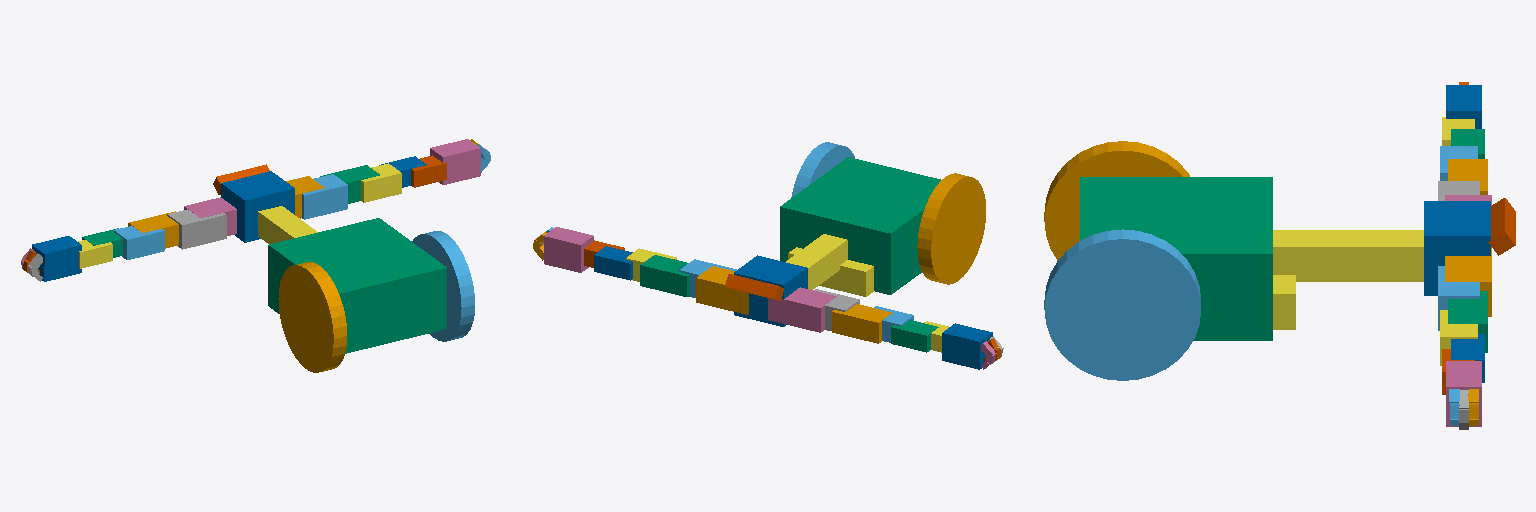
--- Facts derived from the render (not from the file) ---
3 views of the same robot in one strip: view 1: azimuth 30°, elevation 25°; view 2: azimuth 150°, elevation 25°; view 3: azimuth 270°, elevation 25° (orthographic).
Robot: Krang — 26 links, 25 joints (24 revolute, 1 fixed); root link Base; default pose: all joints at 0.
Visible links, largest first — view 1: Base, LWheel, RWheel, Bracket, lGripper, rGripper, L2, R2, Spine, L4, R4, L1 (+6 smaller); view 2: Base, LWheel, Spine, Bracket, L1, rGripper, lGripper, R1, L3, R3, RWheel, L5 (+5 smaller); view 3: Base, RWheel, Spine, LWheel, Bracket, R1, lGripper, rGripper, R3, Kinect, L3, R2 (+5 smaller).
Boxes of the visible links, left/top/right/bottom form: Base: left=268, top=218, right=446, bottom=353; LWheel: left=278, top=262, right=346, bottom=372; RWheel: left=412, top=231, right=474, bottom=341; Bracket: left=221, top=171, right=294, bottom=242; lGripper: left=32, top=236, right=81, bottom=281; rGripper: left=430, top=139, right=480, bottom=184; L2: left=167, top=209, right=226, bottom=249; R2: left=302, top=174, right=347, bottom=219; Spine: left=258, top=206, right=317, bottom=243; L4: left=114, top=226, right=164, bottom=259; R4: left=361, top=163, right=401, bottom=202; L1: left=184, top=197, right=236, bottom=235; Base: left=780, top=157, right=940, bottom=294; LWheel: left=917, top=173, right=985, bottom=284; Spine: left=786, top=234, right=873, bottom=296; Bracket: left=734, top=255, right=807, bottom=326; L1: left=768, top=287, right=836, bottom=332; rGripper: left=544, top=227, right=593, bottom=272; lGripper: left=942, top=323, right=992, bottom=369; R1: left=696, top=266, right=748, bottom=314; L3: left=832, top=304, right=891, bottom=343; R3: left=640, top=255, right=689, bottom=296; RWheel: left=791, top=142, right=854, bottom=197; L5: left=891, top=320, right=938, bottom=352; Base: left=1080, top=177, right=1272, bottom=340; RWheel: left=1044, top=229, right=1200, bottom=380; Spine: left=1273, top=230, right=1423, bottom=329; LWheel: left=1044, top=141, right=1189, bottom=260; Bracket: left=1424, top=201, right=1490, bottom=295; R1: left=1445, top=247, right=1491, bottom=316; lGripper: left=1446, top=85, right=1481, bottom=128; rGripper: left=1446, top=361, right=1481, bottom=426; R3: left=1448, top=291, right=1487, bottom=352; Kinect: left=1488, top=198, right=1515, bottom=255; L3: left=1448, top=159, right=1487, bottom=194; R2: left=1438, top=266, right=1479, bottom=330.
Bounding box of the posed robot: 2.58 × 1.61 × 0.536 m (x, y, z).
Geometry: primitives only (box / cylinder / sphere), no mesh files.

robot.urdf — Krang:
<?xml version="1.0" ?>
<!-- @file Krang.urdf -->
<!-- @author Can Erdogan -->
<!-- @date May 10, 2013 -->
<!-- @brief This file contains the .urdf definition for Krang. -->
<!-- NOTE: The center of mass locations are taken from the MassTable by summing up the -->
<!-- individual part values for the sections (which correspond to nodes here). -->
<!-- TODO: Set the center of mass locations -->
<!-- TODO: Set the correct masses. Note that the dae models have the brackets divided in two and -->
<!-- connected to the middle motor for which we do not have measurements. -->
<!-- NOTE: The bounding box values are taken by finding the min and max values of the dae files. -->

<robot name="Krang">

	<!-- Links -->

	<link name = "LWheel"> 
    <inertial>
      <mass value="4.66"/>
      <inertia ixx="0.102019" ixy="2.45462e-05" ixz="0.00713022" iyy="0.0832724" iyz="-0.00131733" izz="0.086493"/>
      <origin xyz="0 0 0"/>
    </inertial>
		<visual> <origin xyz="-0.002 0 0" rpy="0 1.5708 0"/> <geometry> <cylinder length="0.077" radius="0.268"/> </geometry> </visual> 
		<collision> <origin xyz="-0.002 0 0" rpy="0 1.5708 0"/> <geometry> <cylinder length="0.077" radius="0.268"/> </geometry> </collision> 
	</link>

	<link name = "RWheel"> 
    <inertial>
      <mass value="4.66"/>
      <inertia ixx="0.102019" ixy="2.45462e-05" ixz="0.00713022" iyy="0.0832724" iyz="-0.00131733" izz="0.086493"/>
      <origin xyz="0 0 0"/>
    </inertial>
		<visual> <origin xyz="-0.002 0 0" rpy="0 1.5708 0"/> <geometry> <cylinder length="0.077" radius="0.268"/> </geometry> </visual> 
		<collision> <origin xyz="-0.002 0 0" rpy="0 1.5708 0"/> <geometry> <cylinder length="0.077" radius="0.268"/> </geometry> </collision> 
	</link>

	<link name = "Base"> 
    <inertial>
      <mass value="81.856"/>
      <inertia ixx="0.102019" ixy="2.45462e-05" ixz="0.00713022" iyy="0.0832724" iyz="-0.00131733" izz="0.086493"/>
      <origin xyz="-0.00336451 0.107572 -0.00636184"/>
    </inertial>
		<visual> <origin xyz="0.0 0.183 0.0063"/> <geometry> <box size="0.620 0.66 0.329"/> </geometry> </visual> 
		<collision> <origin xyz="0.0 0.183 0.0063"/> <geometry> <box size="0.620 0.66 0.329"/> </geometry> </collision> 
	</link>

	<link name = "Spine"> 
    <inertial>
      <mass value="10.302"/>
      <inertia ixx="0.102019" ixy="2.45462e-05" ixz="0.00713022" iyy="0.0832724" iyz="-0.00131733" izz="0.086493"/>
			<!-- an offset of -0.02937 is added due to bad dae file and to align with base com -->
      <origin xyz="-0.02937 0.285314 0.0974926"/>
    </inertial>
		<visual> <origin xyz="-0.028 0.230 0.108"/> <geometry> <box size="0.134 0.60 0.133"/> </geometry> </visual> 
		<visual> <origin xyz="-0.026 0.012 0"/> <geometry> <box size="0.435 0.16 0.135"/> </geometry> </visual> 
		<collision> <origin xyz="-0.028 0.230 0.108"/> <geometry> <box size="0.134 0.60 0.133"/> </geometry> </collision> 
		<collision> <origin xyz="-0.026 0.012 0"/> <geometry> <box size="0.435 0.16 0.135"/> </geometry> </collision> 
	</link>

	<link name = "Bracket"> 
    <inertial>
      <mass value="10.17"/>
      <inertia ixx="0.102019" ixy="2.45462e-05" ixz="0.00713022" iyy="0.0832724" iyz="-0.00131733" izz="0.086493"/>
			<!-- offseted with 0.0827 because the origin of the bracket is at the bottom -->
      <origin xyz="0 0.080606 -0.00314267"/>
    </inertial>
		<visual> <origin xyz="0.0012875 -0.022 -0.0280530"/> <geometry> <box size="0.2815 0.23 0.22611"/> </geometry> </visual> 
		<collision> <origin xyz="0.0012875 -0.022 -0.0280530"/> <geometry> <box size="0.2815 0.23 0.22611"/> </geometry> </collision> 
	</link>

	<link name = "Kinect"> 
    <inertial>
      <mass value="0.705"/>
      <inertia ixx="0.102019" ixy="2.45462e-05" ixz="0.00713022" iyy="0.0832724" iyz="-0.00131733" izz="0.086493"/>
      <origin xyz="0.0 -0.04 -0.028"/>
    </inertial>
		<visual> <origin xyz="0.0 -0.0251 -0.0185"/> <geometry> <box size="0.28 0.07 0.063"/> </geometry> </visual> 
		<collision> <origin xyz="0.0 -0.0251 -0.0185"/> <geometry> <box size="0.28 0.07 0.063"/> </geometry> </collision> 
	</link>

	<link name = "L1"> 
    <inertial>
      <mass value="3.836"/>
      <inertia ixx="0.102019" ixy="2.45462e-05" ixz="0.00713022" iyy="0.0832724" iyz="-0.00131733" izz="0.086493"/>
      <origin xyz="0.0063626 -0.00725706 0"/>
    </inertial>
		<visual> <origin xyz="0.015 -0.080866 0.0"/> <geometry> <box size="0.16 0.29367 0.13188"/> </geometry> </visual> 
		<collision> <origin xyz="0.015 -0.080866 0.0"/> <geometry> <box size="0.16 0.29367 0.13188"/> </geometry> </collision> 
	</link>

	<link name = "L2"> 
    <inertial>
      <mass value="2.385"/>
      <inertia ixx="0.102019" ixy="2.45462e-05" ixz="0.00713022" iyy="0.0832724" iyz="-0.00131733" izz="0.086493"/>
      <origin xyz="0.0101136 -0.15332 0"/>
    </inertial>
		<visual> <origin xyz="0.017042 -0.058309 0.0"/> <geometry> <box size="0.14591 0.24658 0.13"/> </geometry> </visual> 
		<collision> <origin xyz="0.017042 -0.058309 0.0"/> <geometry> <box size="0.14591 0.24658 0.13"/> </geometry> </collision> 
	</link>

	<link name = "L3"> 
    <inertial>
      <mass value="2.306"/>
      <inertia ixx="0.102019" ixy="2.45462e-05" ixz="0.00713022" iyy="0.0832724" iyz="-0.00131733" izz="0.086493"/>
      <origin xyz="0.0071222 -0.00803823 0"/>
    </inertial>
		<visual> <origin xyz="0.014000 -0.075113 0.0"/> <geometry> <box size="0.13800 0.26217 0.11189"/> </geometry> </visual> 
		<collision> <origin xyz="0.014000 -0.075113 0.0"/> <geometry> <box size="0.13800 0.26217 0.11189"/> </geometry> </collision> 
	</link>

	<link name = "L4"> 
    <inertial>
      <mass value="1.477"/>
      <inertia ixx="0.102019" ixy="2.45462e-05" ixz="0.00713022" iyy="0.0832724" iyz="-0.00131733" izz="0.086493"/>
      <origin xyz="0.0115211 -0.1255 0"/>
    </inertial>
		<visual> <origin xyz="0.018200 -0.052050 0.0"/> <geometry> <box size="0.12960 0.2141 0.11"/> </geometry> </visual> 
		<collision> <origin xyz="0.018200 -0.052050 0.0"/> <geometry> <box size="0.12960 0.2141 0.11"/> </geometry> </collision> 
	</link>

	<link name = "L5"> 
    <inertial>
      <mass value="1.369"/>
      <inertia ixx="0.102019" ixy="2.45462e-05" ixz="0.00713022" iyy="0.0832724" iyz="-0.00131733" izz="0.086493"/>
      <origin xyz="0.00705037 -0.00747172 0"/>
    </inertial>
		<visual> <origin xyz="0.0145115 -0.0571105 0.0000425"/> <geometry> <box size="0.117977 0.204179 0.089915"/> </geometry> </visual> 
		<collision> <origin xyz="0.0145115 -0.0571105 0.0000425"/> <geometry> <box size="0.117977 0.204179 0.089915"/> </geometry> </collision> 
	</link>

	<link name = "L6"> 
    <inertial>
      <mass value="1.47"/>
      <inertia ixx="0.102019" ixy="2.45462e-05" ixz="0.00713022" iyy="0.0832724" iyz="-0.00131733" izz="0.086493"/>
      <origin xyz="0.0105523 -0.117163 0"/>
    </inertial>
		<visual> <origin xyz="0.0175015 -0.0481615 0.0"/> <geometry> <box size="0.111977 0.185277 0.089"/> </geometry> </visual> 
		<collision> <origin xyz="0.0175015 -0.0481615 0.0"/> <geometry> <box size="0.111977 0.185277 0.089"/> </geometry> </collision> 
	</link>

	<link name = "lGripper"> 
    <inertial>
      <mass value="2.3"/>
      <inertia ixx="0.102019" ixy="2.45462e-05" ixz="0.00713022" iyy="0.0832724" iyz="-0.00131733" izz="0.086493"/>
			<!-- An addition of 4.05 cms from the end of Schunk gripper to space between two halves of ft -->
      <origin xyz="0 0 0.1055"/>
    </inertial>
		<visual> 
			<origin xyz="0.0 -0.0 0.028" rpy="0.0 0.0 1.5708"/> 
			<geometry> <box size="0.15 0.125 0.210"/> </geometry> 
		</visual> 
		<collision> 
			<origin xyz="0.0 -0.0 0.028" rpy="0.0 0.0 1.5708"/> 
			<geometry> <box size="0.15 0.125 0.210"/> </geometry> 
		</collision> 
	</link>

	<link name = "lFingerA">
    <inertial> 
			<mass value="0.0001"/> 
			<inertia ixx="1e-4" ixy="1e-4" ixz="1e-4" iyy="1e-4" iyz="1e-4" izz="1e-4"/>
		</inertial>
		<visual> <origin xyz="-0.032 -0.0035 -0.01185" rpy="0.0 0.0 1.5708"/> 
			<geometry> <box size="0.035 0.07 0.0366"/> </geometry> </visual> 
		<visual> <origin xyz="-0.072 -0.0035 0.002" rpy="1.05 0.0 1.5708"/> 
			<geometry> <box size="0.035 0.049 0.0356"/> </geometry> </visual> 
		<visual> <origin xyz="-0.0815 -0.0035 0.048" rpy="0.0 0.0 1.5708"/> 
			<geometry> <box size="0.036 0.024 0.047"/> </geometry> </visual> 
		<collision> <origin xyz="-0.032 -0.0035 -0.01185" rpy="0.0 0.0 1.5708"/> 
			<geometry> <box size="0.035 0.07 0.0366"/> </geometry> </collision> 
		<collision> <origin xyz="-0.072 -0.0035 0.002" rpy="1.05 0.0 1.5708"/> 
			<geometry> <box size="0.035 0.049 0.0356"/> </geometry> </collision> 
		<collision> <origin xyz="-0.0815 -0.0035 0.048" rpy="0.0 0.0 1.5708"/> 
			<geometry> <box size="0.036 0.024 0.047"/> </geometry> </collision> 
	</link> 	

	<link name = "lFingerB">
    <inertial> 
			<mass value="0.0001"/> 
			<inertia ixx="1e-4" ixy="1e-4" ixz="1e-4" iyy="1e-4" iyz="1e-4" izz="1e-4"/>
		</inertial>
		<visual> <origin xyz="-0.032 -0.0035 -0.01185" rpy="0.0 0.0 1.5708"/> 
			<geometry> <box size="0.035 0.07 0.0366"/> </geometry> </visual> 
		<visual> <origin xyz="-0.072 -0.0035 0.002" rpy="1.05 0.0 1.5708"/> 
			<geometry> <box size="0.035 0.049 0.0356"/> </geometry> </visual> 
		<visual> <origin xyz="-0.0815 -0.0035 0.048" rpy="0.0 0.0 1.5708"/> 
			<geometry> <box size="0.036 0.024 0.047"/> </geometry> </visual> 
		<collision> <origin xyz="-0.032 -0.0035 -0.01185" rpy="0.0 0.0 1.5708"/> 
			<geometry> <box size="0.035 0.07 0.0366"/> </geometry> </collision> 
		<collision> <origin xyz="-0.072 -0.0035 0.002" rpy="1.05 0.0 1.5708"/> 
			<geometry> <box size="0.035 0.049 0.0356"/> </geometry> </collision> 
		<collision> <origin xyz="-0.0815 -0.0035 0.048" rpy="0.0 0.0 1.5708"/> 
			<geometry> <box size="0.036 0.024 0.047"/> </geometry> </collision> 
	</link> 	

	<link name = "lFingerC">
    <inertial> 
			<mass value="0.0001"/> 
			<inertia ixx="1e-4" ixy="1e-4" ixz="1e-4" iyy="1e-4" iyz="1e-4" izz="1e-4"/>
		</inertial>
		<visual> <origin xyz="-0.032 -0.0035 -0.01185" rpy="0.0 0.0 1.5708"/> 
			<geometry> <box size="0.035 0.07 0.0366"/> </geometry> </visual> 
		<visual> <origin xyz="-0.072 -0.0035 0.002" rpy="1.05 0.0 1.5708"/> 
			<geometry> <box size="0.035 0.049 0.0356"/> </geometry> </visual> 
		<visual> <origin xyz="-0.0815 -0.0035 0.048" rpy="0.0 0.0 1.5708"/> 
			<geometry> <box size="0.036 0.024 0.047"/> </geometry> </visual> 
		<collision> <origin xyz="-0.032 -0.0035 -0.01185" rpy="0.0 0.0 1.5708"/> 
			<geometry> <box size="0.035 0.07 0.0366"/> </geometry> </collision> 
		<collision> <origin xyz="-0.072 -0.0035 0.002" rpy="1.05 0.0 1.5708"/> 
			<geometry> <box size="0.035 0.049 0.0356"/> </geometry> </collision> 
		<collision> <origin xyz="-0.0815 -0.0035 0.048" rpy="0.0 0.0 1.5708"/> 
			<geometry> <box size="0.036 0.024 0.047"/> </geometry> </collision> 
	</link> 	

	<link name = "R1"> 
    <inertial>
      <mass value="3.836"/>
      <inertia ixx="0.102019" ixy="2.45462e-05" ixz="0.00713022" iyy="0.0832724" iyz="-0.00131733" izz="0.086493"/>
      <origin xyz="0.0063626 -0.00725706 0"/>
    </inertial>
		<visual> <origin xyz="0.015 -0.080866 0.0"/> <geometry> <box size="0.16 0.29367 0.13188"/> </geometry> </visual> 
		<collision> <origin xyz="0.015 -0.080866 0.0"/> <geometry> <box size="0.16 0.29367 0.13188"/> </geometry> </collision> 
	</link>

	<link name = "R2"> 
    <inertial>
      <mass value="2.385"/>
      <inertia ixx="0.102019" ixy="2.45462e-05" ixz="0.00713022" iyy="0.0832724" iyz="-0.00131733" izz="0.086493"/>
      <origin xyz="0.0101136 -0.15332 0"/>
    </inertial>
		<visual> <origin xyz="0.017042 -0.058309 0.0"/> <geometry> <box size="0.14591 0.24658 0.13"/> </geometry> </visual> 
		<collision> <origin xyz="0.017042 -0.058309 0.0"/> <geometry> <box size="0.14591 0.24658 0.13"/> </geometry> </collision> 
	</link>

	<link name = "R3"> 
    <inertial>
      <mass value="2.306"/>
      <inertia ixx="0.102019" ixy="2.45462e-05" ixz="0.00713022" iyy="0.0832724" iyz="-0.00131733" izz="0.086493"/>
      <origin xyz="0.0071222 -0.00803823 0"/>
    </inertial>
		<visual> <origin xyz="0.014000 -0.075113 0.0"/> <geometry> <box size="0.13800 0.26217 0.11189"/> </geometry> </visual> 
		<collision> <origin xyz="0.014000 -0.075113 0.0"/> <geometry> <box size="0.13800 0.26217 0.11189"/> </geometry> </collision> 
	</link>

	<link name = "R4"> 
    <inertial>
      <mass value="1.477"/>
      <inertia ixx="0.102019" ixy="2.45462e-05" ixz="0.00713022" iyy="0.0832724" iyz="-0.00131733" izz="0.086493"/>
      <origin xyz="0.0115211 -0.1255 0"/>
    </inertial>
		<visual> <origin xyz="0.018200 -0.052050 0.0"/> <geometry> <box size="0.12960 0.2141 0.11"/> </geometry> </visual> 
		<collision> <origin xyz="0.018200 -0.052050 0.0"/> <geometry> <box size="0.12960 0.2141 0.11"/> </geometry> </collision> 
	</link>

	<link name = "R5"> 
    <inertial>
      <mass value="1.369"/>
      <inertia ixx="0.102019" ixy="2.45462e-05" ixz="0.00713022" iyy="0.0832724" iyz="-0.00131733" izz="0.086493"/>
      <origin xyz="0.00705037 -0.00747172 0"/>
    </inertial>
		<visual> <origin xyz="0.0145115 -0.0571105 0.0000425"/> <geometry> <box size="0.117977 0.204179 0.089915"/> </geometry> </visual> 
		<collision> <origin xyz="0.0145115 -0.0571105 0.0000425"/> <geometry> <box size="0.117977 0.204179 0.089915"/> </geometry> </collision> 
	</link>

	<link name = "R6"> 
    <inertial>
      <mass value="1.47"/>
      <inertia ixx="0.102019" ixy="2.45462e-05" ixz="0.00713022" iyy="0.0832724" iyz="-0.00131733" izz="0.086493"/>
      <origin xyz="0.0105523 -0.117163 0"/>
    </inertial>
		<visual> <origin xyz="0.0175015 -0.0481615 0.0"/> <geometry> <box size="0.111977 0.185277 0.089"/> </geometry> </visual> 
		<collision> <origin xyz="0.0175015 -0.0481615 0.0"/> <geometry> <box size="0.111977 0.185277 0.089"/> </geometry> </collision> 
	</link>

	<link name = "rGripper"> 
    <inertial>
      <mass value="2.3"/>
      <inertia ixx="0.102019" ixy="2.45462e-05" ixz="0.00713022" iyy="0.0832724" iyz="-0.00131733" izz="0.086493"/>
			<!-- An addition of 4.05 cms from the end of Schunk gripper to space between two halves of ft -->
      <origin xyz="0 0 0.1055"/>
    </inertial>
		<visual> 
			<origin xyz="0.0 -0.0 0.028" rpy="0.0 0.0 1.5708"/> 
			<geometry> <box size="0.15 0.125 0.210"/> </geometry> 
		</visual> 
		<collision> 
			<origin xyz="0.0 -0.0 0.028" rpy="0.0 0.0 1.5708"/> 
			<geometry> <box size="0.15 0.125 0.210"/> </geometry> 
		</collision> 
	</link>

	<link name = "rFingerA">
    <inertial> 
			<mass value="0.0001"/> 
			<inertia ixx="1e-4" ixy="1e-4" ixz="1e-4" iyy="1e-4" iyz="1e-4" izz="1e-4"/>
		</inertial>
		<visual> <origin xyz="-0.032 -0.0035 -0.01185" rpy="0.0 0.0 1.5708"/> 
			<geometry> <box size="0.035 0.07 0.0366"/> </geometry> </visual> 
		<visual> <origin xyz="-0.072 -0.0035 0.002" rpy="1.05 0.0 1.5708"/> 
			<geometry> <box size="0.035 0.049 0.0356"/> </geometry> </visual> 
		<visual> <origin xyz="-0.0815 -0.0035 0.048" rpy="0.0 0.0 1.5708"/> 
			<geometry> <box size="0.036 0.024 0.047"/> </geometry> </visual> 
		<collision> <origin xyz="-0.032 -0.0035 -0.01185" rpy="0.0 0.0 1.5708"/> 
			<geometry> <box size="0.035 0.07 0.0366"/> </geometry> </collision> 
		<collision> <origin xyz="-0.072 -0.0035 0.002" rpy="1.05 0.0 1.5708"/> 
			<geometry> <box size="0.035 0.049 0.0356"/> </geometry> </collision> 
		<collision> <origin xyz="-0.0815 -0.0035 0.048" rpy="0.0 0.0 1.5708"/> 
			<geometry> <box size="0.036 0.024 0.047"/> </geometry> </collision> 
	</link> 	

	<link name = "rFingerB">
    <inertial> 
			<mass value="0.0001"/> 
			<inertia ixx="1e-4" ixy="1e-4" ixz="1e-4" iyy="1e-4" iyz="1e-4" izz="1e-4"/>
		</inertial>
		<visual> <origin xyz="-0.032 -0.0035 -0.01185" rpy="0.0 0.0 1.5708"/> 
			<geometry> <box size="0.035 0.07 0.0366"/> </geometry> </visual> 
		<visual> <origin xyz="-0.072 -0.0035 0.002" rpy="1.05 0.0 1.5708"/> 
			<geometry> <box size="0.035 0.049 0.0356"/> </geometry> </visual> 
		<visual> <origin xyz="-0.0815 -0.0035 0.048" rpy="0.0 0.0 1.5708"/> 
			<geometry> <box size="0.036 0.024 0.047"/> </geometry> </visual> 
		<collision> <origin xyz="-0.032 -0.0035 -0.01185" rpy="0.0 0.0 1.5708"/> 
			<geometry> <box size="0.035 0.07 0.0366"/> </geometry> </collision> 
		<collision> <origin xyz="-0.072 -0.0035 0.002" rpy="1.05 0.0 1.5708"/> 
			<geometry> <box size="0.035 0.049 0.0356"/> </geometry> </collision> 
		<collision> <origin xyz="-0.0815 -0.0035 0.048" rpy="0.0 0.0 1.5708"/> 
			<geometry> <box size="0.036 0.024 0.047"/> </geometry> </collision> 
	</link> 	

	<link name = "rFingerC">
    <inertial> 
			<mass value="0.0001"/> 
			<inertia ixx="1e-4" ixy="1e-4" ixz="1e-4" iyy="1e-4" iyz="1e-4" izz="1e-4"/>
		</inertial>
		<visual> <origin xyz="-0.032 -0.0035 -0.01185" rpy="0.0 0.0 1.5708"/> 
			<geometry> <box size="0.035 0.07 0.0366"/> </geometry> </visual> 
		<visual> <origin xyz="-0.072 -0.0035 0.002" rpy="1.05 0.0 1.5708"/> 
			<geometry> <box size="0.035 0.049 0.0356"/> </geometry> </visual> 
		<visual> <origin xyz="-0.0815 -0.0035 0.048" rpy="0.0 0.0 1.5708"/> 
			<geometry> <box size="0.036 0.024 0.047"/> </geometry> </visual> 
		<collision> <origin xyz="-0.032 -0.0035 -0.01185" rpy="0.0 0.0 1.5708"/> 
			<geometry> <box size="0.035 0.07 0.0366"/> </geometry> </collision> 
		<collision> <origin xyz="-0.072 -0.0035 0.002" rpy="1.05 0.0 1.5708"/> 
			<geometry> <box size="0.035 0.049 0.0356"/> </geometry> </collision> 
		<collision> <origin xyz="-0.0815 -0.0035 0.048" rpy="0.0 0.0 1.5708"/> 
			<geometry> <box size="0.036 0.024 0.047"/> </geometry> </collision> 
	</link> 	


	<!-- ======================================================================================================== -->
	<!-- ============================================ Joints ==================================================== -->
	<!-- ======================================================================================================== -->

	<joint name="JLWheel" type="revolute"> <parent link="Base" /> <child link="LWheel" />
		<origin xyz = "-0.354 0.0 0" rpy="0 0 0" />
		<axis xyz="1 0 0" /> <limit effort="1000" lower="-3.1416" upper="3.1416" velocity="0.1" />
	</joint>

	<joint name="JRWheel" type="revolute"> <parent link="Base" /> <child link="RWheel" />
		<origin xyz = "0.361 0.0 0" rpy="0 0 0" />
		<axis xyz="1 0 0" /> <limit effort="1000" lower="-3.1416" upper="3.1416" velocity="0.1" />
	</joint>

	<joint name="JWaist" type="revolute"> <parent link="Base" /> <child link="Spine" />
		<origin xyz = "0.026 0.499 -0.091" rpy="0 0 0" />
		<axis xyz="-1 0 0" /> <limit effort="1000" lower="0" upper="2.7" velocity="0.1" />
	</joint>

	<joint name="JTorso" type="revolute"> <parent link="Spine" /> <child link="Bracket" />
		<origin xyz = "-0.0270 0.6670 0.1088" rpy="0 3.1416 0" /> 
		<axis xyz="0 -1 0" /> <limit effort="1000" lower="-0.8" upper="0.8" velocity="0.1" />
	</joint>

	<joint name="JKinect" type="fixed"> <parent link="Bracket" /> <child link="Kinect" />
		<origin xyz = "-0.000 0.0985 -0.1120" rpy="2.5416 0 0" />
		<axis xyz="1 0 0" /> <limit effort="1000" lower="-3.1416" upper="3.1416" velocity="0.1" />
	</joint>

	<joint name="LJ1" type="revolute"> <parent link="Bracket" /> <child link="L1" />
		<origin xyz = "0.2823 0.000 0" rpy="0 3.1416 -1.5708" />
		<axis xyz="0 -1 0" /> <limit effort="1000" lower="-4.7124" upper="4.7124" velocity="0.1" />
	</joint>

	<joint name="LJ2" type="revolute"> <parent link="L1" /> <child link="L2" />
		<origin xyz="0 0.0 0" rpy="3.14 3.14 0" />
		<axis xyz="-1 0 0" /> <limit effort="1000" lower="-2.094" upper="2.094" velocity="0.1" />
	</joint>

	<joint name="LJ3" type="revolute"> <parent link="L2" /> <child link="L3" />
		<origin xyz="0 -0.328 0" rpy="-3.1416 -3.1416 0" />
		<axis xyz="0 -1 0" /> <limit effort="1000" lower="-4.7124" upper="4.7124" velocity="0.1" />
	</joint>

	<joint name="LJ4" type="revolute"> <parent link="L3" /> <child link="L4" />
		<origin xyz="0 0 0" rpy="3.1416 3.1416 0" />
		<axis xyz="-1 0 0" /> <limit effort="1000" lower="-2.094" upper="2.094" velocity="0.1" />
	</joint>

	<joint name="LJ5" type="revolute"> <parent link="L4" /> <child link="L5" />
		<origin xyz="0 -0.2765 0" rpy="3.1416 3.1416 0" />
		<axis xyz="0 -1 0" /> <limit effort="1000" lower="-4.7124" upper="4.7124" velocity="0.1" />
	</joint>

	<joint name="LJ6" type="revolute"> <parent link="L5" /> <child link="L6" />
		<origin xyz="0 0 0" rpy="3.1416 3.1416 0" />
		<axis xyz="-1 0 0" /> <limit effort="1000" lower="-2.094" upper="2.094" velocity="0.1" />
	</joint>

	<!-- For some reason, I had to negate the axis to make sure the motor turns like the others -->
	<joint name="LJFT" type="revolute"> <parent link="L6" /> <child link="lGripper" />
		<origin xyz="0 -0.200 0" rpy="1.5708 3.1416 0" />
		<axis xyz="0 0 -1" /> <limit effort="1000" lower="-4.7124" upper="4.7124" velocity="0.1" />
	</joint>

	<joint name="LJFA" type="revolute"> <parent link="lGripper" /> <child link="lFingerA" />
		<origin xyz="0.004 0.040 0.127" rpy="3.1416 1.0 1.5708" />
		<axis xyz="0 -1 0" /> <limit effort="1000" lower="0.0" upper="1.9" velocity="0.1" />
	</joint>

	<joint name="LJFB" type="revolute"> <parent link="lGripper" /> <child link="lFingerB" />
		<origin xyz="0.030 -0.040 0.127" rpy="0 2.3 1.5708" />
		<axis xyz="0 -1 0" /> <limit effort="1000" lower="0.0" upper="1.9" velocity="0.1" />
	</joint>

	<joint name="LJFC" type="revolute"> <parent link="lGripper" /> <child link="lFingerC" />
		<origin xyz="-0.035 -0.040 0.127" rpy="0 2.3 1.5708" />
		<axis xyz="0 -1 0" /> <limit effort="1000" lower="0.0" upper="1.9" velocity="0.1" />
	</joint>

	<!-- Right arm -->

	<joint name="RJ1" type="revolute"> <parent link="Bracket" /> <child link="R1" />
		<origin xyz = "-0.2823 0.0 0" rpy="0 0 1.5708" />
		<axis xyz="0 -1 0" /> <limit effort="1000" lower="-4.7124" upper="4.7124" velocity="0.1" />
	</joint>

	<joint name="RJ2" type="revolute"> <parent link="R1" /> <child link="R2" />
		<origin xyz="0 0.0 0" rpy="3.14 3.14 0" />
		<axis xyz="-1 0 0" /> <limit effort="1000" lower="-2.094" upper="2.094" velocity="0.1" />
	</joint>

	<joint name="RJ3" type="revolute"> <parent link="R2" /> <child link="R3" />
		<origin xyz="0 -0.328 0" rpy="-3.1416 -3.1416 0" />
		<axis xyz="0 -1 0" /> <limit effort="1000" lower="-4.7124" upper="4.7124" velocity="0.1" />
	</joint>

	<joint name="RJ4" type="revolute"> <parent link="R3" /> <child link="R4" />
		<origin xyz="0 0 0" rpy="3.1416 3.1416 0" />
		<axis xyz="-1 0 0" /> <limit effort="1000" lower="-2.094" upper="2.094" velocity="0.1" />
	</joint>

	<joint name="RJ5" type="revolute"> <parent link="R4" /> <child link="R5" />
		<origin xyz="0 -0.2765 0" rpy="3.1416 3.1416 0" />
		<axis xyz="0 -1 0" /> <limit effort="1000" lower="-4.7124" upper="4.7124" velocity="0.1" />
	</joint>

	<joint name="RJ6" type="revolute"> <parent link="R5" /> <child link="R6" />
		<origin xyz="0 0 0" rpy="3.1416 3.1416 0" />
		<axis xyz="-1 0 0" /> <limit effort="1000" lower="-2.094" upper="2.094" velocity="0.1" />
	</joint>

	<joint name="RJFT" type="revolute"> <parent link="R6" /> <child link="rGripper" />
		<origin xyz="0 -0.200 0" rpy="1.5708 3.1416 0" />
		<axis xyz="0 0 -1" /> <limit effort="1000" lower="-4.7124" upper="4.7124" velocity="0.1" />
	</joint>

	<joint name="RJFA" type="revolute"> <parent link="rGripper" /> <child link="rFingerA" />
		<origin xyz="0.004 0.040 0.127" rpy="3.1416 1.0 1.5708" />
		<axis xyz="0 -1 0" /> <limit effort="1000" lower="0.0" upper="1.9" velocity="0.1" />
	</joint>

	<joint name="RJFB" type="revolute"> <parent link="rGripper" /> <child link="rFingerB" />
		<origin xyz="0.030 -0.040 0.127" rpy="0 2.30 1.5708" />
		<axis xyz="0 -1 0" /> <limit effort="1000" lower="0.0" upper="1.9" velocity="0.1" />
	</joint>

	<joint name="RJFC" type="revolute"> <parent link="rGripper" /> <child link="rFingerC" />
		<origin xyz="-0.035 -0.040 0.127" rpy="0 2.30 1.5708" />
		<axis xyz="0 -1 0" /> <limit effort="1000" lower="0.0" upper="1.9" velocity="0.1" />
	</joint>


</robot>
